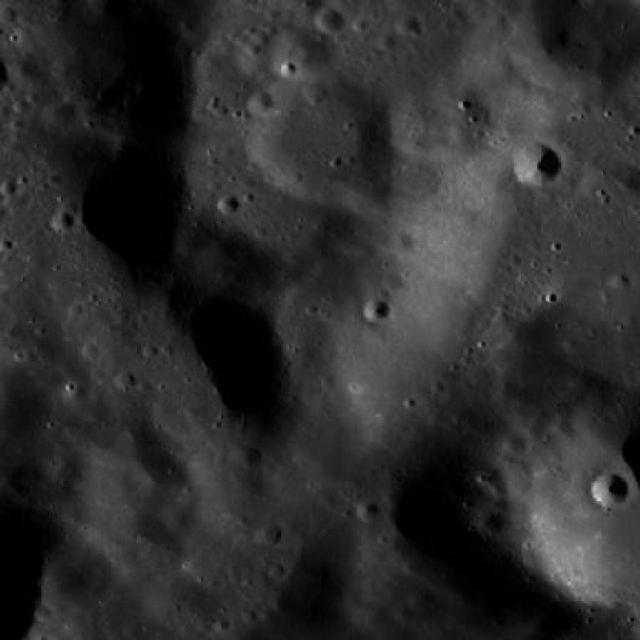crater: (126, 294, 294, 440), (248, 73, 394, 201), (390, 82, 482, 164), (96, 503, 182, 579), (188, 450, 274, 524), (39, 542, 119, 610), (87, 408, 156, 468), (144, 575, 210, 631), (272, 24, 334, 80), (512, 142, 563, 187), (348, 174, 400, 218), (137, 454, 185, 496), (235, 44, 272, 78), (592, 472, 628, 506), (7, 54, 41, 86), (50, 454, 84, 484), (46, 98, 80, 127), (163, 503, 194, 529), (233, 443, 261, 468), (315, 8, 343, 32), (362, 298, 390, 322), (88, 0, 123, 18), (258, 521, 284, 544), (480, 512, 505, 534), (388, 232, 412, 254), (412, 586, 436, 608), (618, 167, 640, 190), (248, 94, 272, 115), (356, 500, 379, 520), (398, 14, 420, 34), (218, 194, 240, 213), (380, 273, 402, 292), (304, 83, 326, 102), (52, 212, 74, 230), (504, 435, 524, 453), (489, 480, 509, 498), (396, 606, 414, 623), (380, 35, 398, 51), (115, 371, 134, 386), (0, 6, 17, 22)
